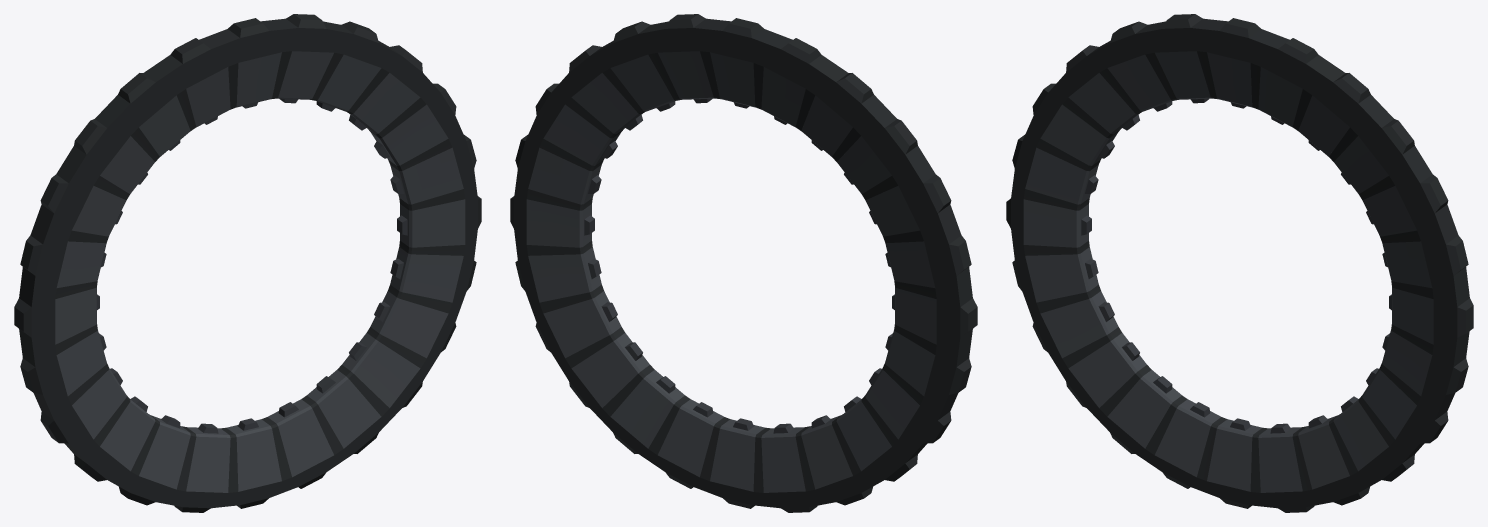
Rendered from SM_Bld_Warpgate_01_InnerRing_01.glb.
3 views of the same model, side by side, from view 1: azimuth 30°, elevation 25°; view 2: azimuth 150°, elevation 25°; view 3: azimuth 330°, elevation 25° (orthographic).
Parts seen in each view (by area): view 1: SM_Bld_Warpgate_01_InnerRing_01; view 2: SM_Bld_Warpgate_01_InnerRing_01; view 3: SM_Bld_Warpgate_01_InnerRing_01.
Boxes of the visible parts, box(x1,y1,x2,y2) form: SM_Bld_Warpgate_01_InnerRing_01: box(14, 14, 481, 512); SM_Bld_Warpgate_01_InnerRing_01: box(510, 14, 977, 512); SM_Bld_Warpgate_01_InnerRing_01: box(1006, 14, 1473, 512).
Bounding box in the file's own units: 5.87 × 5.87 × 0.5201.
1 material, 1 textured.
